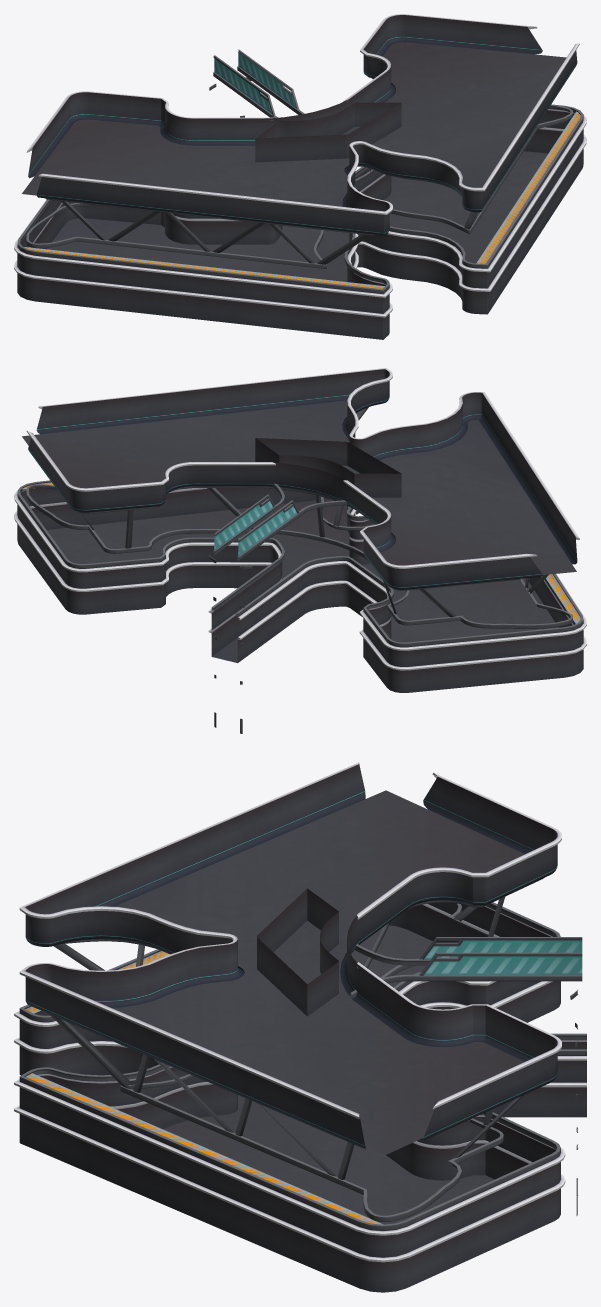
The model's file is mesh_1002_yjy_sd007_a.FBX.
3 renders of one model, top to bottom at view 1: azimuth 30°, elevation 25°; view 2: azimuth 150°, elevation 25°; view 3: azimuth 270°, elevation 25°, orthographic. The views are drawn at different scales.
Visible parts, largest first — view 1: mesh_1002_yjy_sd007_a; view 2: mesh_1002_yjy_sd007_a; view 3: mesh_1002_yjy_sd007_a.
Part boxes in pixels (box(x1,y1,x2,y2)): mesh_1002_yjy_sd007_a: box(14, 14, 586, 339); mesh_1002_yjy_sd007_a: box(14, 368, 586, 733); mesh_1002_yjy_sd007_a: box(14, 762, 586, 1292).
Size of the model in its own units: 10247 by 3487 by 6679.
Materials: 1 (1 with a texture image).
